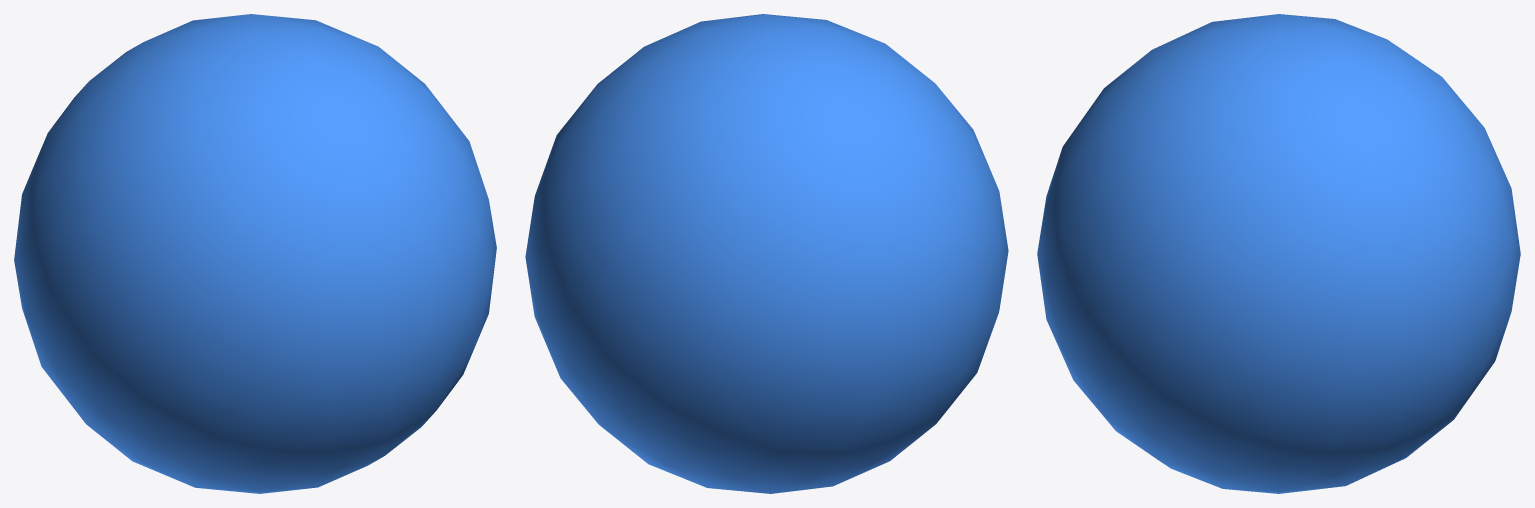
The picture shows the model from 3 angles, left to right: view 1: azimuth 30°, elevation 25°; view 2: azimuth 150°, elevation 25°; view 3: azimuth 270°, elevation 25°; orthographic projection.
Parts seen in each view (by area): view 1: Sphere_Sphere; view 2: Sphere_Sphere; view 3: Sphere_Sphere.
Boxes of the visible parts, x1,y1,x2,y2 form: Sphere_Sphere: (14, 14, 496, 493); Sphere_Sphere: (525, 14, 1008, 493); Sphere_Sphere: (1037, 14, 1520, 493).
Size of the model in its own units: 5.09 by 5.09 by 5.09.
